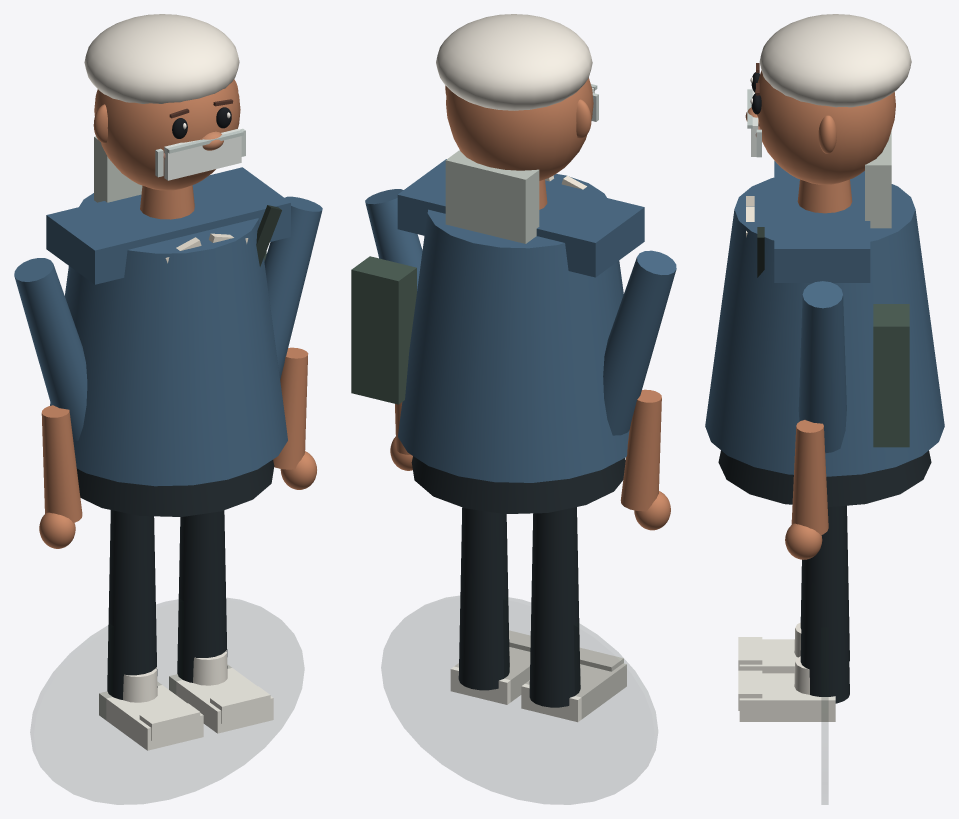
File: customer_08.glb
The picture shows the model from 3 angles, left to right: view 1: azimuth 30°, elevation 25°; view 2: azimuth 150°, elevation 25°; view 3: azimuth 270°, elevation 25°; orthographic projection. The views are drawn at different scales.
Parts seen in each view (by area): view 1: torso, contact_shadow, shoulder_line, covered_hair, leg_-0.075, head, leg_0.075, upper_arm_-0.235, hip, upper_arm_0.235, forearm_-0.235, shoe_-0.075 (+12 smaller); view 2: torso, contact_shadow, covered_hair, leg_-0.075, shoulder_line, leg_0.075, shoulder_bag, head, upper_arm_-0.235, scarf_tail, hip, forearm_-0.235 (+5 smaller); view 3: torso, covered_hair, head, shoulder_line, leg_0.075, upper_arm_0.235, shoulder_bag, hip, forearm_0.235, shoe_0.075, scarf_tail, neck (+7 smaller).
Part boxes in pixels (x1,y1,x2,y2): torso: (50,193,287,486); contact_shadow: (30,598,303,804); shoulder_line: (46,167,290,284); covered_hair: (84,14,239,103); leg_-0.075: (107,510,157,699); head: (94,79,240,190); leg_0.075: (177,510,227,682); upper_arm_-0.235: (14,258,87,440); hip: (77,460,274,516); upper_arm_0.235: (264,196,322,379); forearm_-0.235: (41,405,82,523); shoe_-0.075: (99,681,203,750); torso: (398,174,629,482); contact_shadow: (381,596,657,804); covered_hair: (436,14,592,110); leg_-0.075: (529,507,580,707); shoulder_line: (397,159,644,277); leg_0.075: (458,507,509,690); shoulder_bag: (351,256,416,404); head: (446,78,593,180); upper_arm_-0.235: (603,250,676,435); scarf_tail: (445,150,539,243); hip: (411,456,625,514); forearm_-0.235: (620,389,661,511); torso: (705,177,944,476); covered_hair: (759,14,911,107); head: (755,70,895,184); shoulder_line: (774,161,870,282); leg_0.075: (800,505,849,703); upper_arm_0.235: (798,281,846,453); shoulder_bag: (873,304,909,447); hip: (718,450,931,507); forearm_0.235: (791,420,828,535); shoe_0.075: (739,673,835,721); scarf_tail: (865,130,891,228); neck: (797,179,852,213).
Size of the model in its own units: 0.662 by 1.6 by 0.459.
